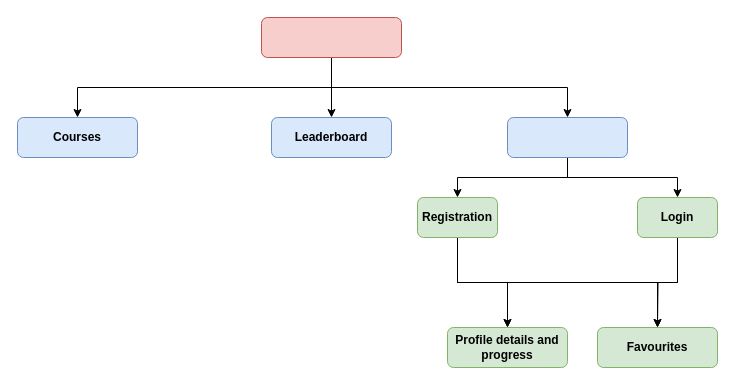
This 735x385 diagram has some shape labels left out. The box of each missing label's shape, as (x1, y1, x2, y2) in pixels:
Home page: (260, 16, 402, 58)
My profile: (506, 116, 628, 158)
